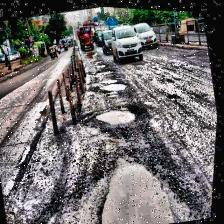pothole: (84, 142, 200, 224), (90, 97, 142, 130), (98, 71, 130, 95), (93, 64, 117, 76)
